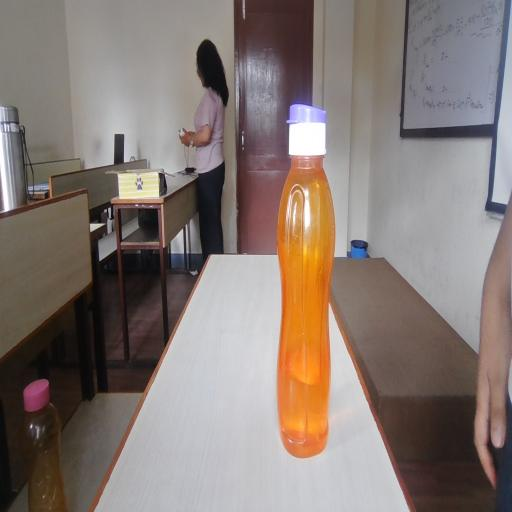Bottle: (280, 94, 351, 461)
